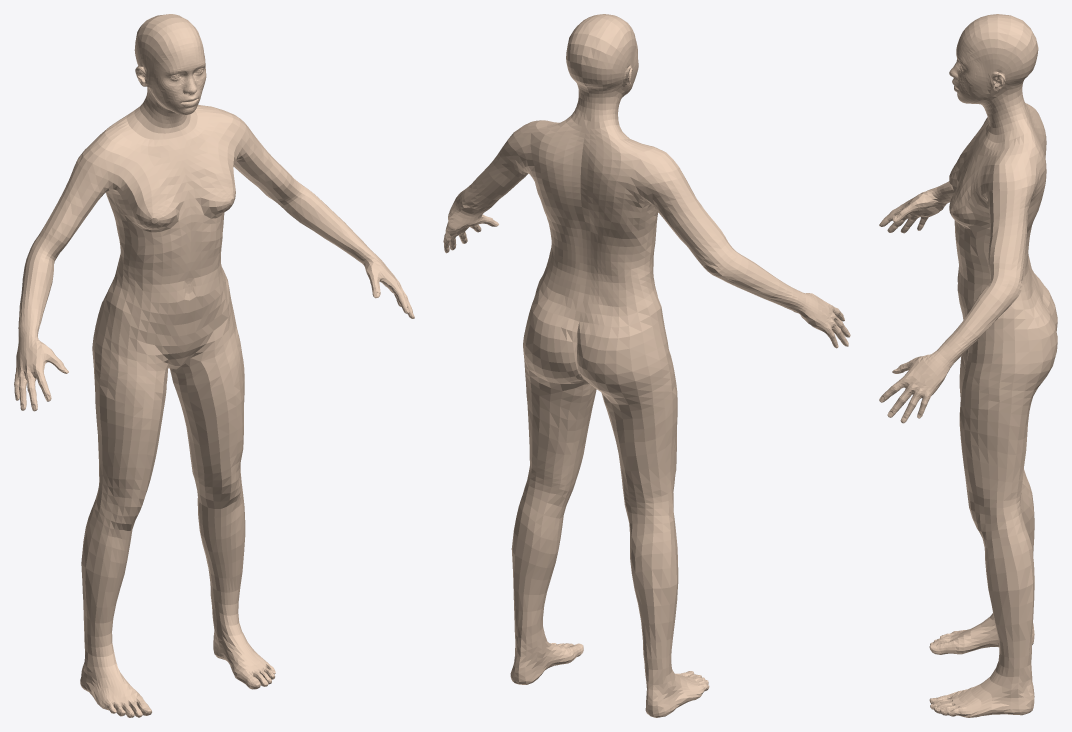
File: female-young-average-medium.glb
The picture shows the model from 3 angles, left to right: view 1: azimuth 30°, elevation 25°; view 2: azimuth 150°, elevation 25°; view 3: azimuth 270°, elevation 25°; orthographic projection.
Parts seen in each view (by area): view 1: world; view 2: world; view 3: world.
Boxes of the visible parts, x1,y1,x2,y2 form: world: (14,14,414,717); world: (443,14,850,717); world: (879,14,1057,717).
Size of the model in its own units: 1.1 by 1.78 by 0.4345.
